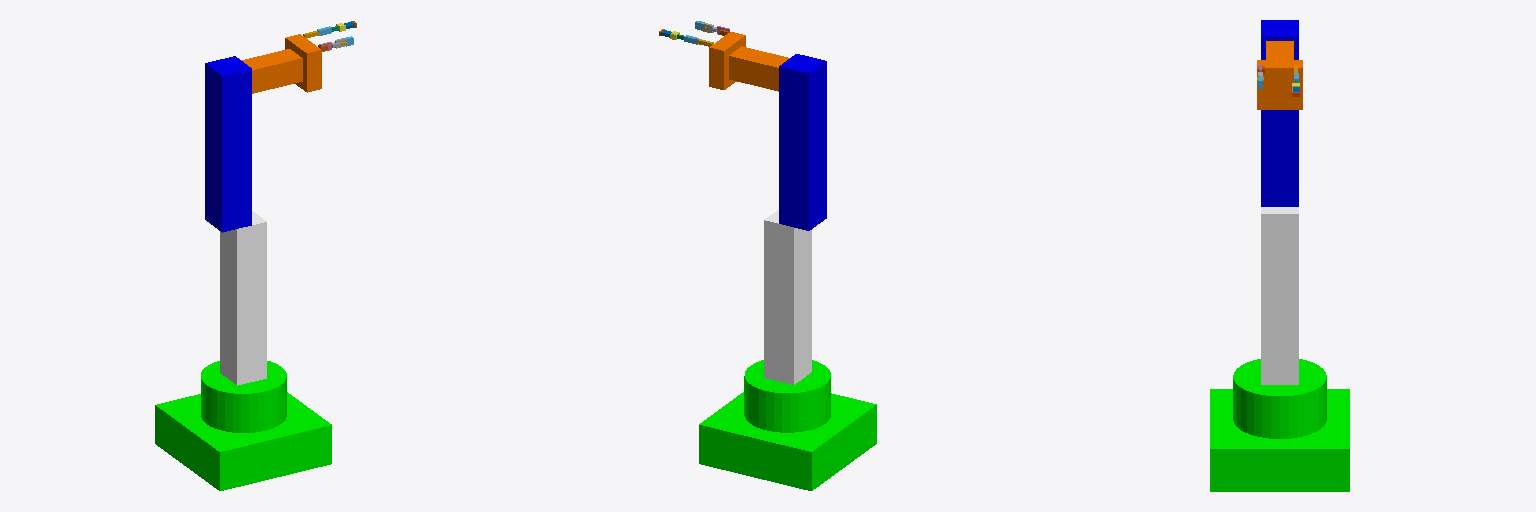
robot.urdf — robot:
<?xml version='1.0' encoding='utf-8'?>
<robot name="robot">
  <link name="base_link">
    <visual>
      <origin xyz="0 0 0.125" rpy="0 0 0" />
      <geometry>
        <box size="0.75 0.75 0.25" />
      </geometry>
      <material name="green" />
    </visual>
    <visual>
      <origin xyz="0 0 0.375" rpy="0 0 0" />
      <geometry>
        <cylinder length="0.25" radius="0.25" />
      </geometry>
      <material name="green">
        <color rgba="0 1 0 1" />
      </material>
    </visual>
    <collision>
      <geometry>
        <box size="0.75 0.75 0.5" />
      </geometry>
    </collision>
    <inertial>
      <mass value="0.5" />
      <inertia ixx="0.034" ixy="0.0" ixz="0.0" iyy="0.034" iyz="0.0" izz="0.034" />
    </inertial>
  </link>
  <link name="support_link">
    <visual>
      <origin xyz="0 0 0.5" rpy="0 0 0" />
      <geometry>
        <box size="0.2 0.2 1" />
      </geometry>
      <material name="white">
        <color rgba="1 1 1 1" />
      </material>
    </visual>
    <collision>
      <geometry>
        <box size="0.2 0.2 1" />
      </geometry>
    </collision>
    <inertial>
      <mass value="0.1" />
      <inertia ixx="0.01" ixy="0.0" ixz="0.0" iyy="0.01" iyz="0.0" izz="0.01" />
    </inertial>
  </link>
  <joint name="support_joint" type="continuous">
    <origin xyz="0 0 0.5" rpy="0 0 0" />
    <parent link="base_link" />
    <child link="support_link" />
    <axis xyz="0 0 1" />
  </joint>
  <link name="arm_link">
    <visual>
      <origin xyz="0 0 0.5" rpy="0 0 0" />
      <geometry>
        <box size="0.2 0.2 1" />
      </geometry>
      <material name="blue">
        <color rgba="0 0 1 1" />
      </material>
    </visual>
    <collision>
      <geometry>
        <box size="0.2 0.2 1" />
      </geometry>
    </collision>
    <inertial>
      <mass value="0.1" />
      <inertia ixx="0.01" ixy="0.0" ixz="0.0" iyy="0.01" iyz="0.0" izz="0.01" />
    </inertial>
  </link>
  <joint name="arm_joint" type="revolute">
    <origin xyz="-0.1 0 1" rpy="0 0 0" />
    <parent link="support_link" />
    <child link="arm_link" />
    <axis xyz="0 1 0" />
    <limit lower="-3.14" upper="3.14" effort="1.0" velocity="1.0" />
  </joint>
  <link name="wrist_link">
    <visual>
      <origin xyz="0 0 0.25" rpy="0 0 0" />
      <geometry>
        <box size="0.15 0.15 0.5" />
      </geometry>
      <material name="orange">
        <color rgba="1 0.5 0 1" />
      </material>
    </visual>
    <collision>
      <geometry>
        <box size="0.15 0.15 0.5" />
      </geometry>
    </collision>
    <inertial>
      <mass value="0.1" />
      <inertia ixx="0.01" ixy="0.0" ixz="0.0" iyy="0.01" iyz="0.0" izz="0.01" />
    </inertial>
  </link>
  <joint name="wrist_joint" type="fixed">
    <origin xyz="0 0 0.9" rpy="0 1.571 0" />
    <parent link="arm_link" />
    <child link="wrist_link" />
  </joint>
  <link name="palm_link">
    <visual>
      <origin xyz="0 0 0.05" rpy="0 0 0" />
      <geometry>
        <box size="0.25 0.25 0.1" />
      </geometry>
      <material name="orange" />
    </visual>
    <collision>
      <geometry>
        <box size="0.25 0.25 0.1" />
      </geometry>
    </collision>
    <inertial>
      <mass value="0.1" />
      <inertia ixx="0.01" ixy="0.0" ixz="0.0" iyy="0.01" iyz="0.0" izz="0.01" />
    </inertial>
  </link>
  <joint name="palm_joint" type="fixed">
    <origin xyz="0 0 0.45" rpy="0 0 0" />
    <parent link="wrist_link" />
    <child link="palm_link" />
  </joint>
  <link name="finger_link_0_0">
    <visual>
      <origin xyz="0 0 0.023" rpy="0 0 0" />
      <geometry>
        <box size="0.027 0.041 0.046" />
      </geometry>
    </visual>
    <collision>
      <geometry>
        <box size="0.027 0.041 0.046" />
      </geometry>
    </collision>
    <inertial>
      <mass value="0.015" />
      <inertia ixx="0.0" iyy="0.0" izz="0.0" ixy="0" ixz="0" iyz="0" />
    </inertial>
  </link>
  <joint name="finger_joint_palm_link_to_finger_link_0_0" type="revolute">
    <origin xyz="-0.125 -0.099 0.1" rpy="0 0 0" />
    <parent link="palm_link" />
    <child link="finger_link_0_0" />
    <axis xyz="0.0 -1.0 0.0" />
    <limit lower="-3.142" upper="3.142" effort="10" velocity="10" />
  </joint>
  <link name="finger_link_0_1">
    <visual>
      <origin xyz="0 0 0.0295" rpy="0 0 0" />
      <geometry>
        <box size="0.012 0.011 0.059" />
      </geometry>
    </visual>
    <collision>
      <geometry>
        <box size="0.012 0.011 0.059" />
      </geometry>
    </collision>
    <inertial>
      <mass value="0.002" />
      <inertia ixx="0.0" iyy="0.0" izz="0.0" ixy="0" ixz="0" iyz="0" />
    </inertial>
  </link>
  <joint name="finger_joint_finger_link_0_0_to_finger_link_0_1" type="revolute">
    <origin xyz="0.0 0.0 0.046" rpy="0 0 0" />
    <parent link="finger_link_0_0" />
    <child link="finger_link_0_1" />
    <axis xyz="0.0 1.0 0.0" />
    <limit lower="-3.142" upper="3.142" effort="10" velocity="10" />
  </joint>
  <link name="finger_link_0_2">
    <visual>
      <origin xyz="0 0 0.032" rpy="0 0 0" />
      <geometry>
        <box size="0.049 0.016 0.064" />
      </geometry>
    </visual>
    <collision>
      <geometry>
        <box size="0.049 0.016 0.064" />
      </geometry>
    </collision>
    <inertial>
      <mass value="0.015" />
      <inertia ixx="0.0" iyy="0.0" izz="0.0" ixy="0" ixz="0" iyz="0" />
    </inertial>
  </link>
  <joint name="finger_joint_finger_link_0_1_to_finger_link_0_2" type="revolute">
    <origin xyz="0.0 0.0 0.059" rpy="0 0 0" />
    <parent link="finger_link_0_1" />
    <child link="finger_link_0_2" />
    <axis xyz="0.0 1.0 0.0" />
    <limit lower="-3.142" upper="3.142" effort="10" velocity="10" />
  </joint>
  <link name="finger_link_1_0">
    <visual>
      <origin xyz="0 0 0.0475" rpy="0 0 0" />
      <geometry>
        <box size="0.024 0.021 0.095" />
      </geometry>
    </visual>
    <collision>
      <geometry>
        <box size="0.024 0.021 0.095" />
      </geometry>
    </collision>
    <inertial>
      <mass value="0.014" />
      <inertia ixx="0.0" iyy="0.0" izz="0.0" ixy="0" ixz="0" iyz="0" />
    </inertial>
  </link>
  <joint name="finger_joint_palm_link_to_finger_link_1_0" type="revolute">
    <origin xyz="-0.125 0.086 0.1" rpy="0 0 0" />
    <parent link="palm_link" />
    <child link="finger_link_1_0" />
    <axis xyz="0.0 -1.0 0.0" />
    <limit lower="-3.142" upper="3.142" effort="10" velocity="10" />
  </joint>
  <link name="finger_link_1_1">
    <visual>
      <origin xyz="0 0 0.043" rpy="0 0 0" />
      <geometry>
        <box size="0.033 0.026 0.086" />
      </geometry>
    </visual>
    <collision>
      <geometry>
        <box size="0.033 0.026 0.086" />
      </geometry>
    </collision>
    <inertial>
      <mass value="0.022" />
      <inertia ixx="0.0" iyy="0.0" izz="0.0" ixy="0" ixz="0" iyz="0" />
    </inertial>
  </link>
  <joint name="finger_joint_finger_link_1_0_to_finger_link_1_1" type="revolute">
    <origin xyz="0.0 0.0 0.095" rpy="0 0 0" />
    <parent link="finger_link_1_0" />
    <child link="finger_link_1_1" />
    <axis xyz="0.0 1.0 0.0" />
    <limit lower="-3.142" upper="3.142" effort="10" velocity="10" />
  </joint>
  <link name="finger_link_1_2">
    <visual>
      <origin xyz="0 0 0.0245" rpy="0 0 0" />
      <geometry>
        <box size="0.022 0.014 0.049" />
      </geometry>
    </visual>
    <collision>
      <geometry>
        <box size="0.022 0.014 0.049" />
      </geometry>
    </collision>
    <inertial>
      <mass value="0.005" />
      <inertia ixx="0.0" iyy="0.0" izz="0.0" ixy="0" ixz="0" iyz="0" />
    </inertial>
  </link>
  <joint name="finger_joint_finger_link_1_1_to_finger_link_1_2" type="revolute">
    <origin xyz="0.0 0.0 0.086" rpy="0 0 0" />
    <parent link="finger_link_1_1" />
    <child link="finger_link_1_2" />
    <axis xyz="0.0 1.0 0.0" />
    <limit lower="-3.142" upper="3.142" effort="10" velocity="10" />
  </joint>
  <link name="finger_link_1_3">
    <visual>
      <origin xyz="0 0 0.019" rpy="0 0 0" />
      <geometry>
        <box size="0.034 0.042 0.038" />
      </geometry>
    </visual>
    <collision>
      <geometry>
        <box size="0.034 0.042 0.038" />
      </geometry>
    </collision>
    <inertial>
      <mass value="0.016" />
      <inertia ixx="0.0" iyy="0.0" izz="0.0" ixy="0" ixz="0" iyz="0" />
    </inertial>
  </link>
  <joint name="finger_joint_finger_link_1_2_to_finger_link_1_3" type="revolute">
    <origin xyz="0.0 0.0 0.049" rpy="0 0 0" />
    <parent link="finger_link_1_2" />
    <child link="finger_link_1_3" />
    <axis xyz="1.0 0.0 0.0" />
    <limit lower="-3.142" upper="3.142" effort="10" velocity="10" />
  </joint>
  <link name="finger_link_1_4">
    <visual>
      <origin xyz="0 0 0.031" rpy="0 0 0" />
      <geometry>
        <box size="0.021 0.038 0.062" />
      </geometry>
    </visual>
    <collision>
      <geometry>
        <box size="0.021 0.038 0.062" />
      </geometry>
    </collision>
    <inertial>
      <mass value="0.015" />
      <inertia ixx="0.0" iyy="0.0" izz="0.0" ixy="0" ixz="0" iyz="0" />
    </inertial>
  </link>
  <joint name="finger_joint_finger_link_1_3_to_finger_link_1_4" type="revolute">
    <origin xyz="0.0 0.0 0.038" rpy="0 0 0" />
    <parent link="finger_link_1_3" />
    <child link="finger_link_1_4" />
    <axis xyz="0.0 1.0 0.0" />
    <limit lower="-3.142" upper="3.142" effort="10" velocity="10" />
  </joint>
  <link name="finger_link_1_5">
    <visual>
      <origin xyz="0 0 0.0065" rpy="0 0 0" />
      <geometry>
        <box size="0.027 0.043 0.013" />
      </geometry>
    </visual>
    <collision>
      <geometry>
        <box size="0.027 0.043 0.013" />
      </geometry>
    </collision>
    <inertial>
      <mass value="0.005" />
      <inertia ixx="0.0" iyy="0.0" izz="0.0" ixy="0" ixz="0" iyz="0" />
    </inertial>
  </link>
  <joint name="finger_joint_finger_link_1_4_to_finger_link_1_5" type="revolute">
    <origin xyz="0.0 0.0 0.062" rpy="0 0 0" />
    <parent link="finger_link_1_4" />
    <child link="finger_link_1_5" />
    <axis xyz="1.0 0.0 0.0" />
    <limit lower="-3.142" upper="3.142" effort="10" velocity="10" />
  </joint>
  <link name="finger_link_2_0">
    <visual>
      <origin xyz="0 0 0.0385" rpy="0 0 0" />
      <geometry>
        <box size="0.048 0.013 0.077" />
      </geometry>
    </visual>
    <collision>
      <geometry>
        <box size="0.048 0.013 0.077" />
      </geometry>
    </collision>
    <inertial>
      <mass value="0.014" />
      <inertia ixx="0.0" iyy="0.0" izz="0.0" ixy="0" ixz="0" iyz="0" />
    </inertial>
  </link>
  <joint name="finger_joint_palm_link_to_finger_link_2_0" type="revolute">
    <origin xyz="-0.125 -0.104 0.1" rpy="0 0 0" />
    <parent link="palm_link" />
    <child link="finger_link_2_0" />
    <axis xyz="0.0 -1.0 0.0" />
    <limit lower="-3.142" upper="3.142" effort="10" velocity="10" />
  </joint>
  <link name="finger_link_2_1">
    <visual>
      <origin xyz="0 0 0.0265" rpy="0 0 0" />
      <geometry>
        <box size="0.02 0.025 0.053" />
      </geometry>
    </visual>
    <collision>
      <geometry>
        <box size="0.02 0.025 0.053" />
      </geometry>
    </collision>
    <inertial>
      <mass value="0.008" />
      <inertia ixx="0.0" iyy="0.0" izz="0.0" ixy="0" ixz="0" iyz="0" />
    </inertial>
  </link>
  <joint name="finger_joint_finger_link_2_0_to_finger_link_2_1" type="revolute">
    <origin xyz="0.0 0.0 0.077" rpy="0 0 0" />
    <parent link="finger_link_2_0" />
    <child link="finger_link_2_1" />
    <axis xyz="1.0 0.0 0.0" />
    <limit lower="-3.142" upper="3.142" effort="10" velocity="10" />
  </joint>
  <link name="finger_link_2_2">
    <visual>
      <origin xyz="0 0 0.0195" rpy="0 0 0" />
      <geometry>
        <box size="0.012 0.033 0.039" />
      </geometry>
    </visual>
    <collision>
      <geometry>
        <box size="0.012 0.033 0.039" />
      </geometry>
    </collision>
    <inertial>
      <mass value="0.005" />
      <inertia ixx="0.0" iyy="0.0" izz="0.0" ixy="0" ixz="0" iyz="0" />
    </inertial>
  </link>
  <joint name="finger_joint_finger_link_2_1_to_finger_link_2_2" type="revolute">
    <origin xyz="0.0 0.0 0.053" rpy="0 0 0" />
    <parent link="finger_link_2_1" />
    <child link="finger_link_2_2" />
    <axis xyz="1.0 0.0 0.0" />
    <limit lower="-3.142" upper="3.142" effort="10" velocity="10" />
  </joint>
  <link name="finger_link_2_3">
    <visual>
      <origin xyz="0 0 0.0245" rpy="0 0 0" />
      <geometry>
        <box size="0.045 0.025 0.049" />
      </geometry>
    </visual>
    <collision>
      <geometry>
        <box size="0.045 0.025 0.049" />
      </geometry>
    </collision>
    <inertial>
      <mass value="0.017" />
      <inertia ixx="0.0" iyy="0.0" izz="0.0" ixy="0" ixz="0" iyz="0" />
    </inertial>
  </link>
  <joint name="finger_joint_finger_link_2_2_to_finger_link_2_3" type="revolute">
    <origin xyz="0.0 0.0 0.039" rpy="0 0 0" />
    <parent link="finger_link_2_2" />
    <child link="finger_link_2_3" />
    <axis xyz="0.0 1.0 0.0" />
    <limit lower="-3.142" upper="3.142" effort="10" velocity="10" />
  </joint>
</robot>

--- Render facts (derived) ---
The picture shows the robot from 3 angles, left to right: view 1: azimuth 30°, elevation 25°; view 2: azimuth 150°, elevation 25°; view 3: azimuth 270°, elevation 25°; orthographic projection.
Model robot with 18 links and 17 joints (14 revolute, 1 continuous, 2 fixed), rooted at base_link, posed every joint at zero.
Links seen in each view (by area): view 1: base_link, arm_link, support_link, wrist_link, palm_link; view 2: base_link, arm_link, support_link, wrist_link, palm_link; view 3: base_link, support_link, arm_link, palm_link, wrist_link.
Boxes of the visible links, x1,y1,x2,y2 form: base_link: (155,361,331,490); arm_link: (205,56,251,232); support_link: (220,211,266,385); wrist_link: (241,49,302,93); palm_link: (285,34,321,92); base_link: (699,360,876,490); arm_link: (779,54,826,230); support_link: (764,210,811,384); wrist_link: (729,46,789,91); palm_link: (709,32,745,89); base_link: (1210,359,1349,491); support_link: (1261,207,1298,384); arm_link: (1261,20,1298,206); palm_link: (1257,60,1302,109); wrist_link: (1266,41,1293,59).
Size in the robot's own frame: 1.17 by 0.75 by 2.55 metres.
Geometry: primitives only (box / cylinder / sphere), no mesh files.